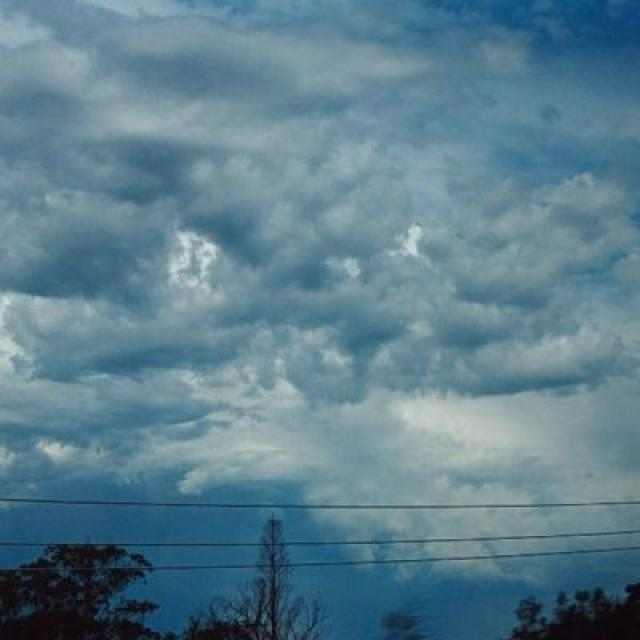Ac: (1, 18, 640, 463)
